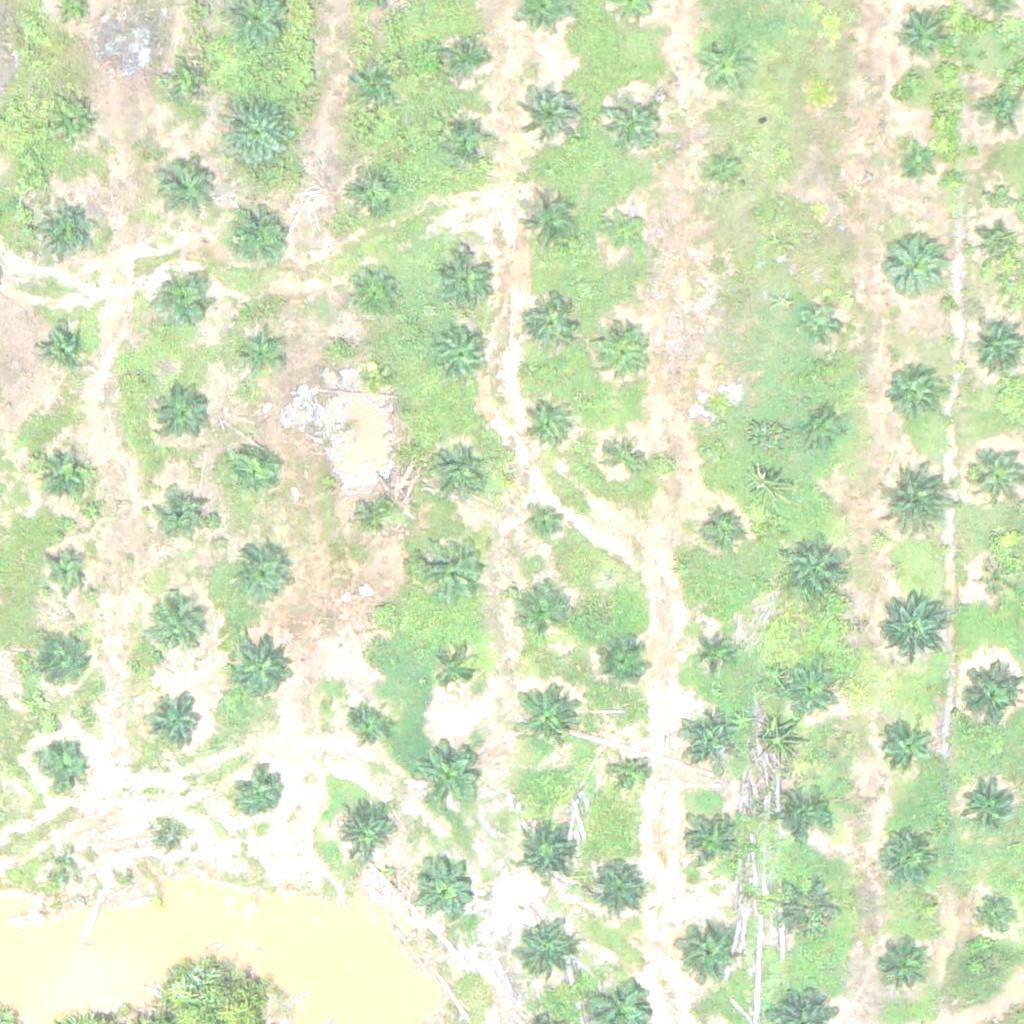Kelapa_Sawit: (221, 198, 296, 274), (416, 524, 491, 600), (221, 94, 296, 170), (875, 467, 950, 542), (877, 581, 952, 656), (676, 703, 739, 766), (413, 744, 476, 807), (881, 231, 944, 294), (150, 153, 213, 216), (692, 35, 755, 98), (435, 249, 498, 312), (35, 199, 98, 262), (957, 665, 1020, 728), (510, 921, 573, 984), (409, 853, 472, 916), (677, 922, 740, 985), (512, 685, 574, 748), (229, 633, 291, 696), (780, 541, 842, 604), (882, 358, 944, 421), (147, 596, 209, 659), (427, 441, 489, 504), (515, 193, 577, 256), (602, 94, 664, 157), (518, 77, 580, 140), (226, 543, 288, 606), (33, 438, 95, 501), (776, 881, 838, 944), (332, 798, 394, 861), (432, 328, 494, 390), (517, 823, 579, 885), (584, 851, 646, 913), (782, 668, 832, 719), (877, 719, 927, 770), (893, 11, 943, 62), (36, 734, 86, 785), (40, 635, 90, 686), (37, 323, 87, 374), (970, 81, 1020, 132), (881, 832, 931, 883), (777, 790, 827, 840), (151, 700, 201, 750), (232, 767, 282, 817), (158, 484, 208, 534), (161, 278, 211, 328), (157, 388, 207, 438), (347, 261, 397, 311), (346, 165, 396, 215), (528, 296, 578, 346), (598, 328, 648, 378), (511, 591, 561, 641), (224, 444, 274, 494), (876, 943, 926, 993), (681, 813, 731, 863), (597, 638, 647, 688), (428, 647, 478, 697), (343, 704, 393, 754), (351, 487, 401, 537), (971, 224, 1021, 274), (440, 31, 490, 81), (442, 115, 492, 165), (348, 51, 398, 101), (523, 400, 573, 450), (239, 334, 277, 372), (613, 759, 651, 797), (526, 502, 564, 540), (603, 213, 641, 251), (701, 396, 739, 434), (607, 438, 645, 476), (806, 412, 843, 450), (57, 107, 94, 145), (981, 561, 1018, 599), (692, 634, 729, 672), (706, 510, 744, 547), (46, 551, 83, 589), (898, 144, 935, 182), (706, 150, 743, 187), (801, 300, 838, 337), (179, 71, 204, 97), (157, 820, 182, 845), (360, 362, 385, 387), (367, 597, 392, 622), (62, 854, 87, 879)
